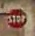stop: (5, 8, 28, 27)
